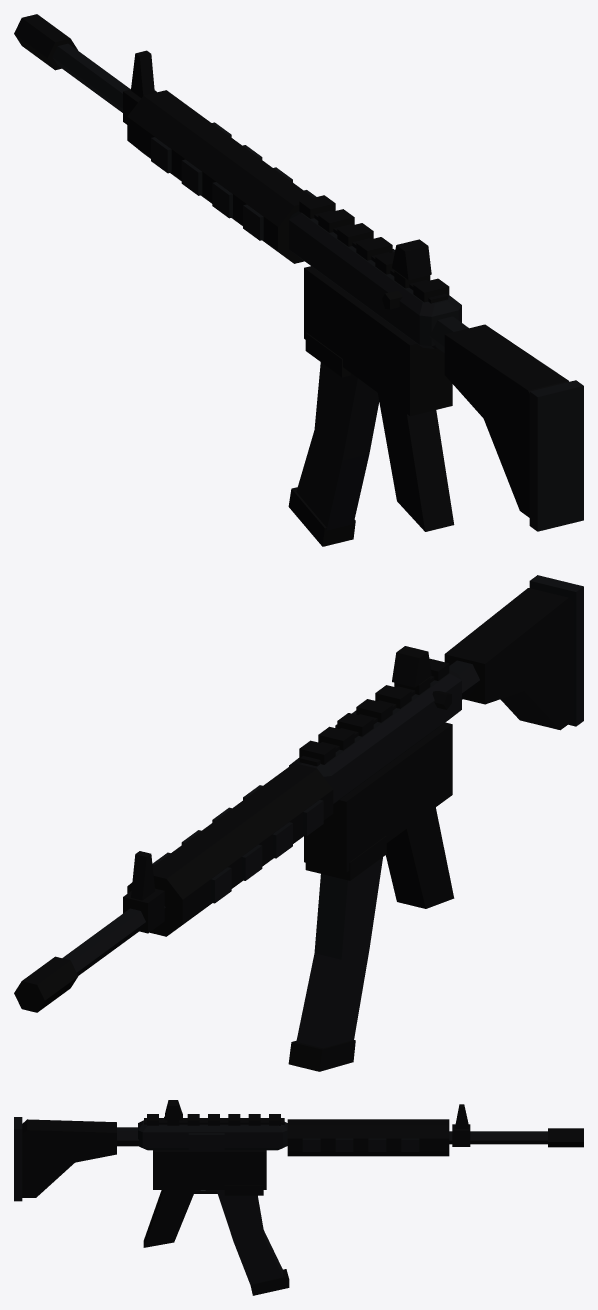
The model's file is NPC_Tactician_Held.glb.
The picture shows the model from 3 angles, top to bottom: view 1: azimuth 30°, elevation 25°; view 2: azimuth 150°, elevation 25°; view 3: azimuth 270°, elevation 25°; orthographic projection. The views are drawn at different scales.
Parts seen in each view (by area): view 1: CHR_Tactician_AR; view 2: CHR_Tactician_AR; view 3: CHR_Tactician_AR.
Boxes of the visible parts, <box> form: CHR_Tactician_AR: <box>14,14,583,546</box>; CHR_Tactician_AR: <box>14,575,583,1071</box>; CHR_Tactician_AR: <box>14,1100,583,1295</box>.
Size of the model in its own units: 0.066 by 0.348 by 0.952.
Materials: 1 (1 with a texture image).
